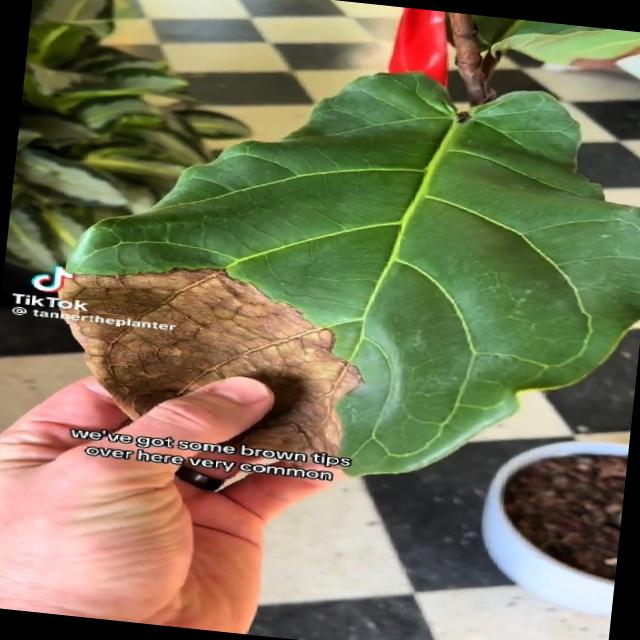lisc_suchy: (60, 71, 640, 479), (461, 13, 640, 67)
roslina_sucha: (66, 71, 640, 478)
